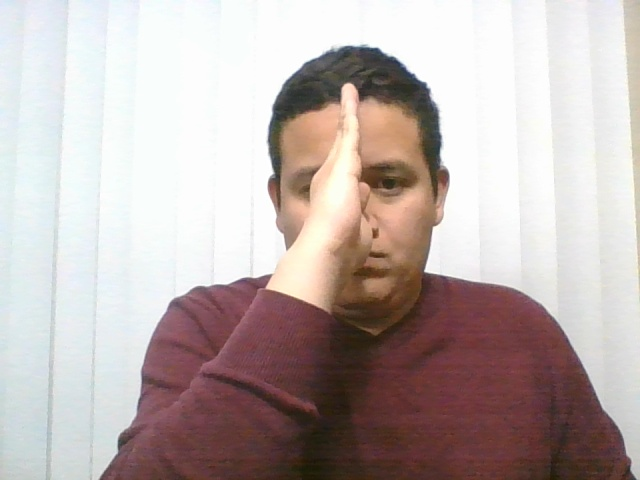God: (235, 66, 438, 343)
